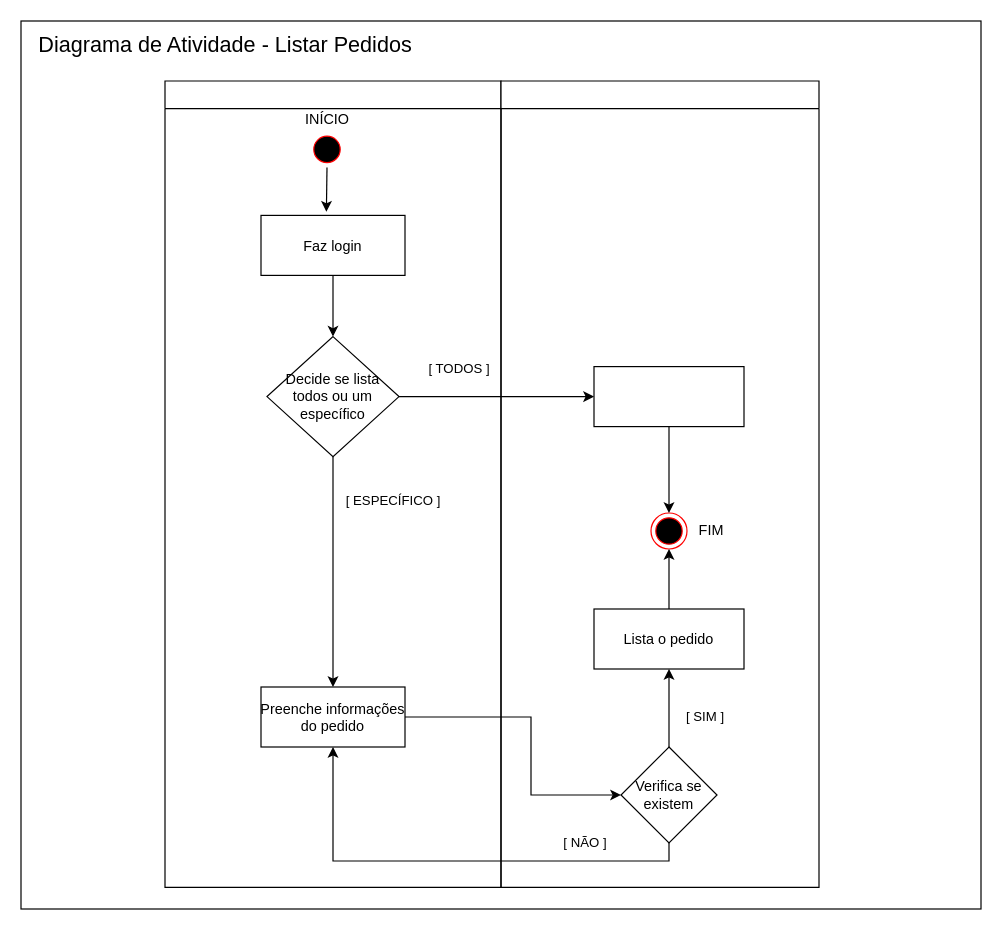
The diagram is 1002 pixels wide and 930 high, and some of its shapes have lost their labels. Each missing label, with the box of its shape:
Gerente: (164, 80, 501, 887)
Lista todos os pedidos: (593, 365, 744, 427)
Sistema: (500, 80, 819, 887)
